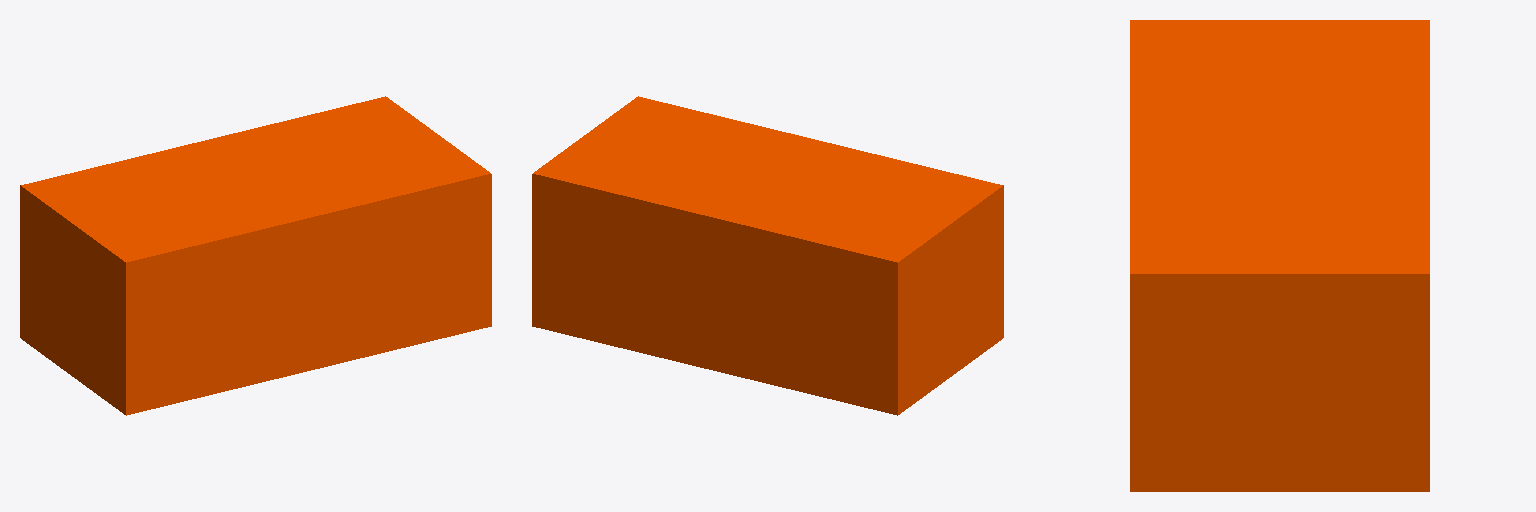
The robot description file, URDF, robot "4wd_test":
<?xml version="1.0" ?>
<robot name="4wd_test">

<link name="base_link">
    <visual>
        <origin xyz=" 0 0 0" rpy="0 0 0" />
        <geometry>
            <box size="0.40 0.20 0.16"/>
        </geometry>
        <material name="yellow">
            <color rgba="1 0.4 0 1"/>
        </material>
    </visual>
</link>

<!-- imu sensor -->
<joint name="imu_joint" type="fixed">
    <origin xyz="0 0 0.08" rpy="0 0 0"/>
    <parent link="base_link"/>
    <child link="imu_link"/>
</joint>

<link name="imu_link">
    <!-- <visual>
        <origin xyz=" 0 0 0 " rpy="0 0 0" />
        <geometry>
            <cylinder length="0.01" radius="0.03"/>
        </geometry>
        <material name="black"/>
    </visual> -->
</link>

</robot>

--- Render facts (derived) ---
The picture shows the robot from 3 angles, left to right: view 1: azimuth 30°, elevation 25°; view 2: azimuth 150°, elevation 25°; view 3: azimuth 270°, elevation 25°; orthographic projection.
Robot: 4wd_test — 2 links, 1 joints (1 fixed); root link base_link; default pose: every joint at zero.
Links seen in each view (by area): view 1: base_link; view 2: base_link; view 3: base_link.
Link boxes in pixels (left/top/right/bottom): base_link: left=20, top=96, right=491, bottom=415; base_link: left=532, top=96, right=1003, bottom=415; base_link: left=1130, top=20, right=1429, bottom=491.
Bounding box of the posed robot: 0.4 × 0.2 × 0.16 m (x, y, z).
Geometry: primitives only (box / cylinder / sphere), no mesh files.